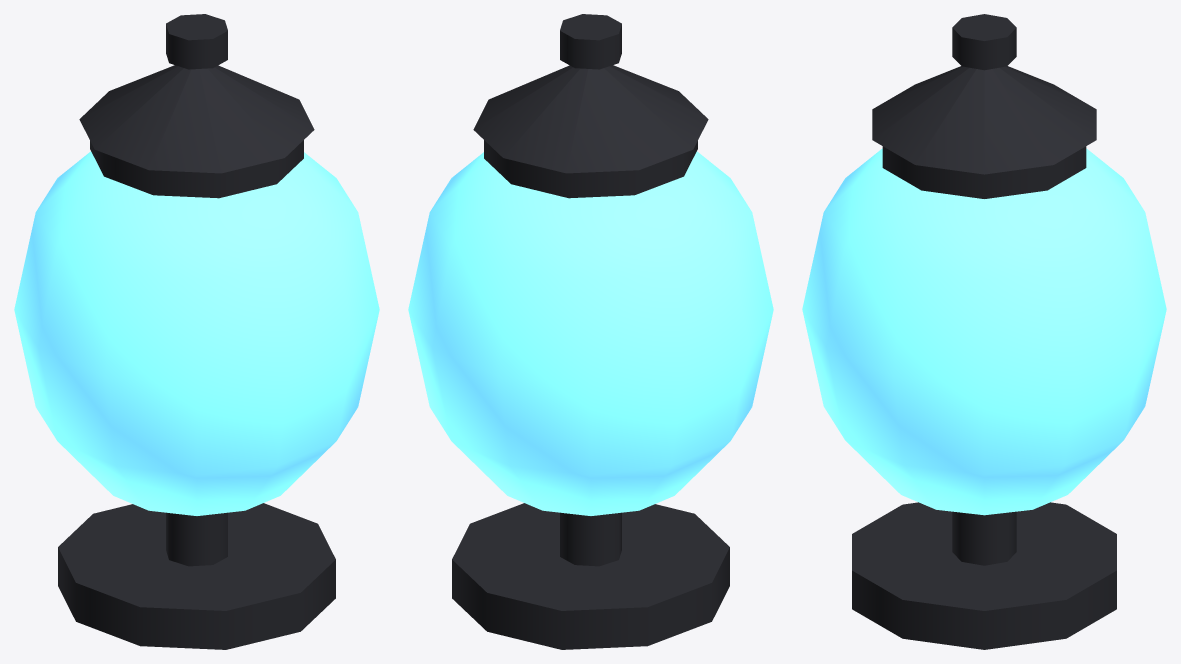
The model's file is lantern-blue.glb.
3 renders of one model, left to right at view 1: azimuth 30°, elevation 25°; view 2: azimuth 150°, elevation 25°; view 3: azimuth 270°, elevation 25°, orthographic.
Bounding box in the file's own units: 0.34 × 0.58 × 0.34.
